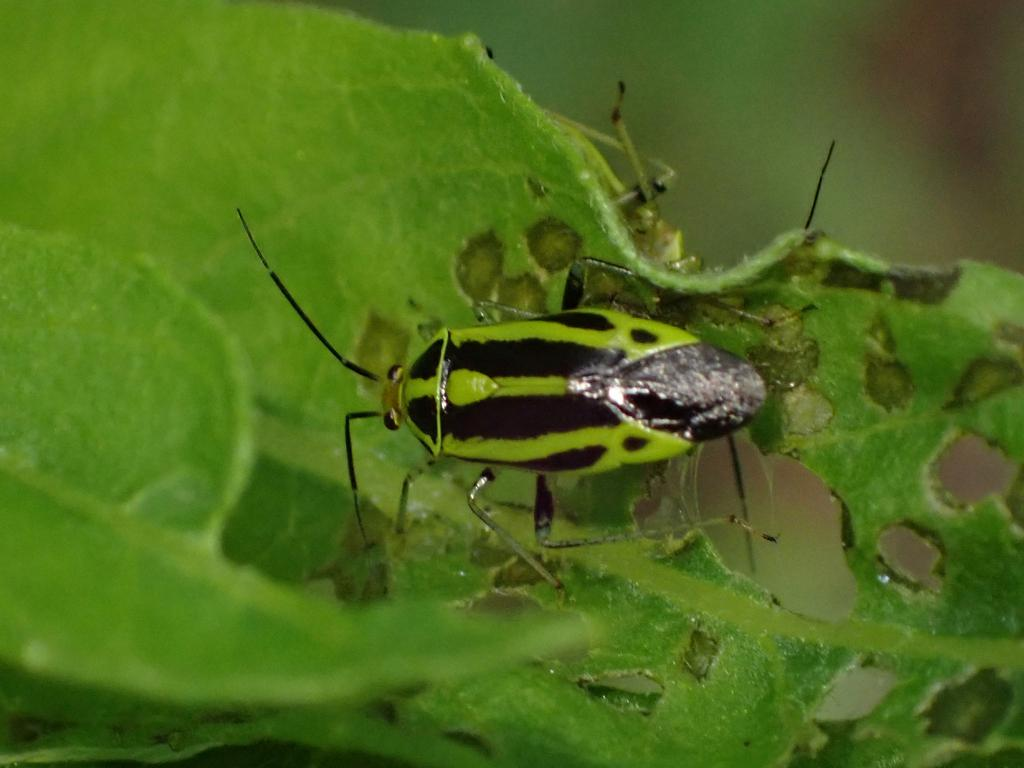plant_bugs: (146, 117, 899, 641)
